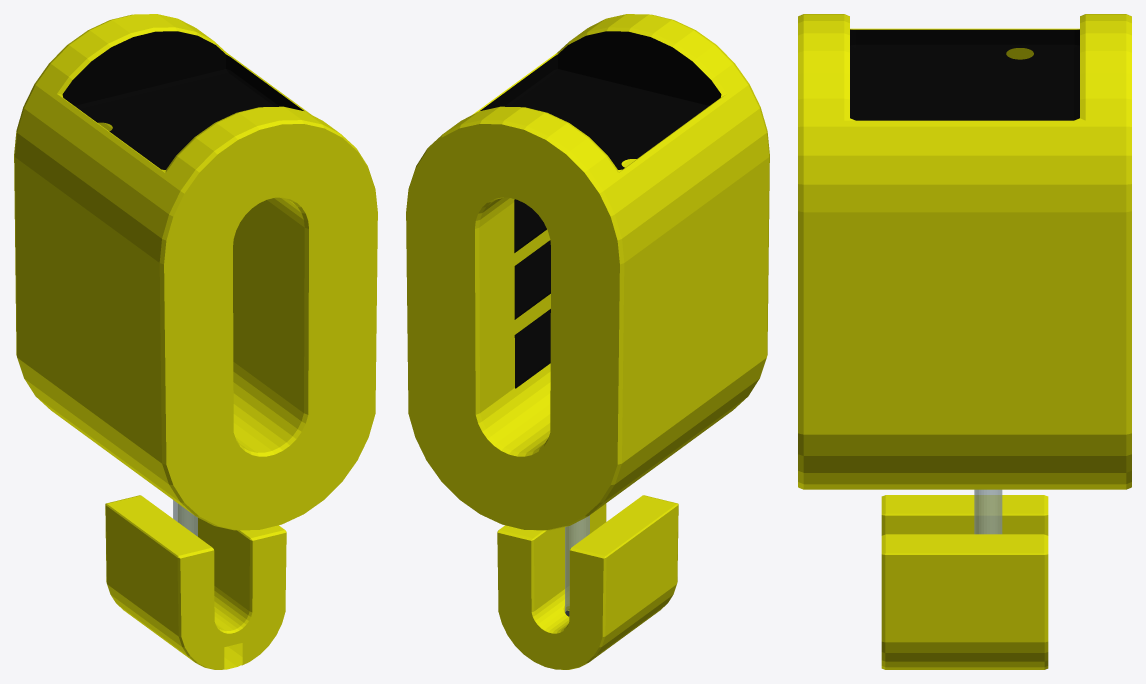
The model's file is obita_trimmed.glb.
The picture shows the model from 3 angles, left to right: view 1: azimuth 30°, elevation 25°; view 2: azimuth 150°, elevation 25°; view 3: azimuth 270°, elevation 25°; orthographic projection. The views are drawn at different scales.
Parts seen in each view (by area): view 1: O, u, club; view 2: O, u, club, Cube.016, Cube.017, Cube.015, lift; view 3: O, u, club, lift.
Part boxes in pixels (left/top/right/bottom): O: left=14, top=14, right=377, bottom=530; u: left=105, top=495, right=286, bottom=669; club: left=62, top=31, right=303, bottom=169; O: left=406, top=14, right=769, bottom=530; u: left=497, top=495, right=678, bottom=669; club: left=480, top=31, right=721, bottom=169; Cube.016: left=514, top=240, right=550, bottom=319; Cube.017: left=514, top=309, right=550, bottom=388; Cube.015: left=514, top=199, right=546, bottom=252; lift: left=565, top=515, right=589, bottom=616; O: left=798, top=14, right=1131, bottom=489; u: left=881, top=495, right=1048, bottom=669; club: left=850, top=29, right=1079, bottom=120; lift: left=974, top=489, right=1002, bottom=534.
Size of what is drawn, in the model's own units: 33.63 by 84.45 by 40.15.
